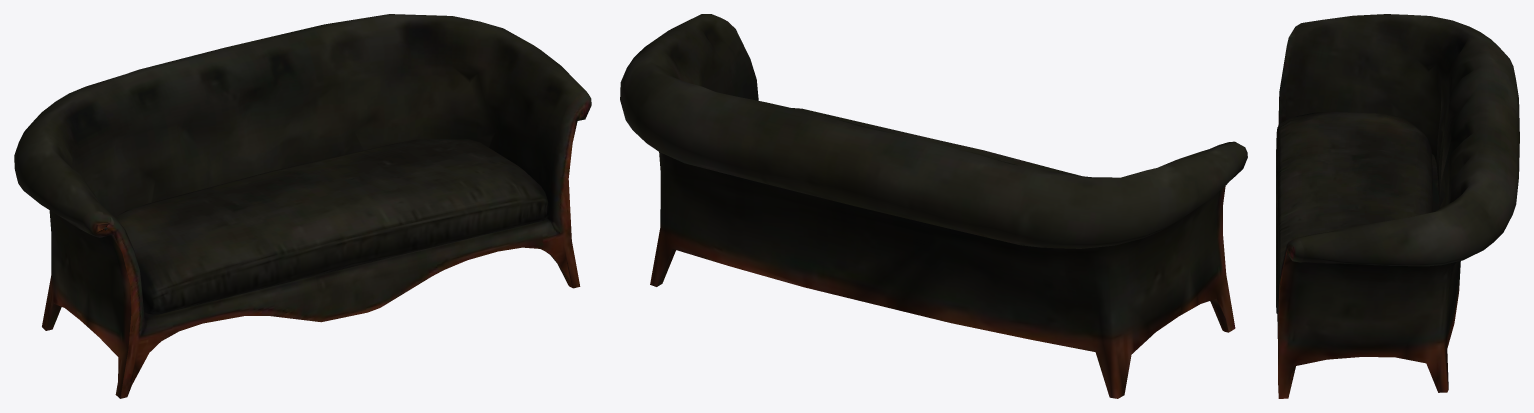
Rendered from sofa_02.glb.
The picture shows the model from 3 angles, left to right: view 1: azimuth 30°, elevation 25°; view 2: azimuth 150°, elevation 25°; view 3: azimuth 270°, elevation 25°; orthographic projection. The views are drawn at different scales.
Visible parts, largest first — view 1: sofa_02_Base; view 2: sofa_02_Base; view 3: sofa_02_Base.
Boxes of the visible parts, x1,y1,x2,y2 form: sofa_02_Base: (14,14,591,398); sofa_02_Base: (620,14,1247,398); sofa_02_Base: (1276,14,1519,398).
Bounding box in the file's own units: 1.81 × 0.7095 × 0.8158.
Materials: 1 (1 with a texture image).
